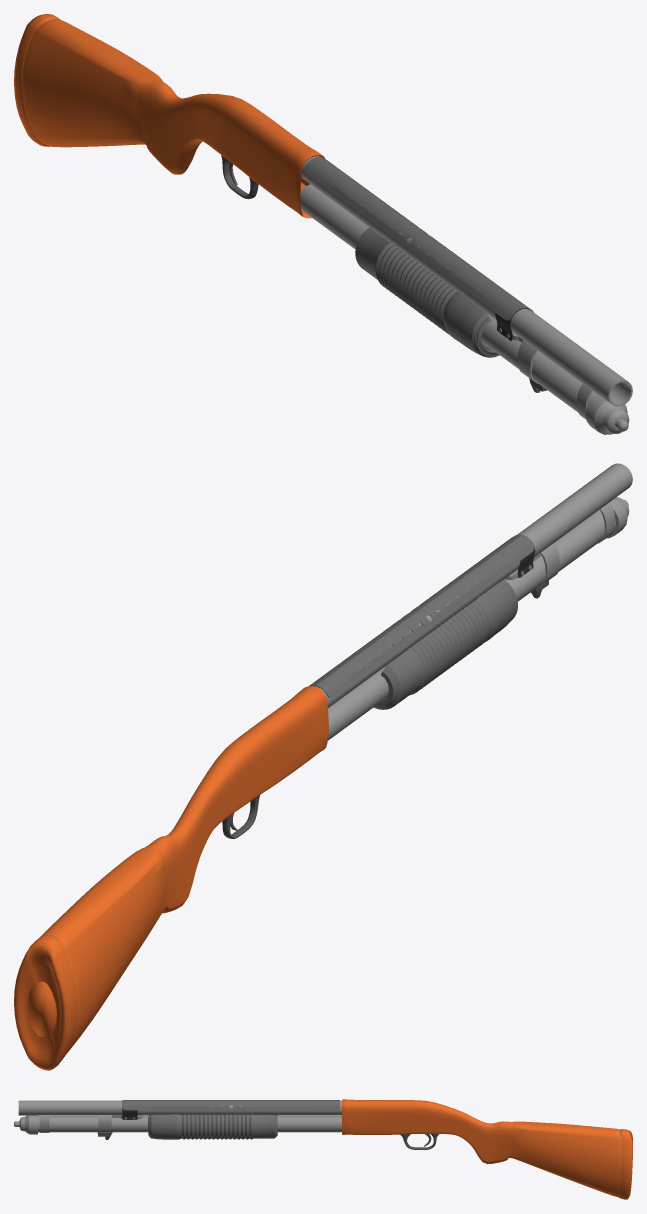
File: Mossberg 590A1.fbx
The picture shows the model from 3 angles, top to bottom: view 1: azimuth 30°, elevation 25°; view 2: azimuth 150°, elevation 25°; view 3: azimuth 270°, elevation 25°; orthographic projection. The views are drawn at different scales.
Parts seen in each view (by area): view 1: Butt and ammunition box, Cannon, Hand Guard, add, Supply Tube; view 2: Butt and ammunition box, Hand Guard, add, Cannon, Supply Tube; view 3: Butt and ammunition box, Cannon, Hand Guard, Supply Tube, add, Joker, clamp.
Boxes of the visible parts, box(x1,y1,x2,y2) form: Butt and ammunition box: box(14, 14, 325, 218); Cannon: box(301, 156, 632, 419); Hand Guard: box(355, 227, 499, 357); add: box(304, 157, 533, 320); Supply Tube: box(300, 184, 629, 434); Butt and ammunition box: box(14, 686, 328, 1070); Hand Guard: box(374, 579, 517, 709); add: box(309, 534, 534, 698); Cannon: box(315, 463, 632, 707); Supply Tube: box(328, 497, 629, 740); Butt and ammunition box: box(342, 1099, 632, 1199); Cannon: box(18, 1100, 341, 1132); Hand Guard: box(148, 1114, 277, 1139); Supply Tube: box(14, 1115, 341, 1134); add: box(122, 1100, 339, 1110); Joker: box(400, 1133, 438, 1149); clamp: box(122, 1100, 137, 1119).
Bounding box in the file's own units: 108 × 346 × 1970.
